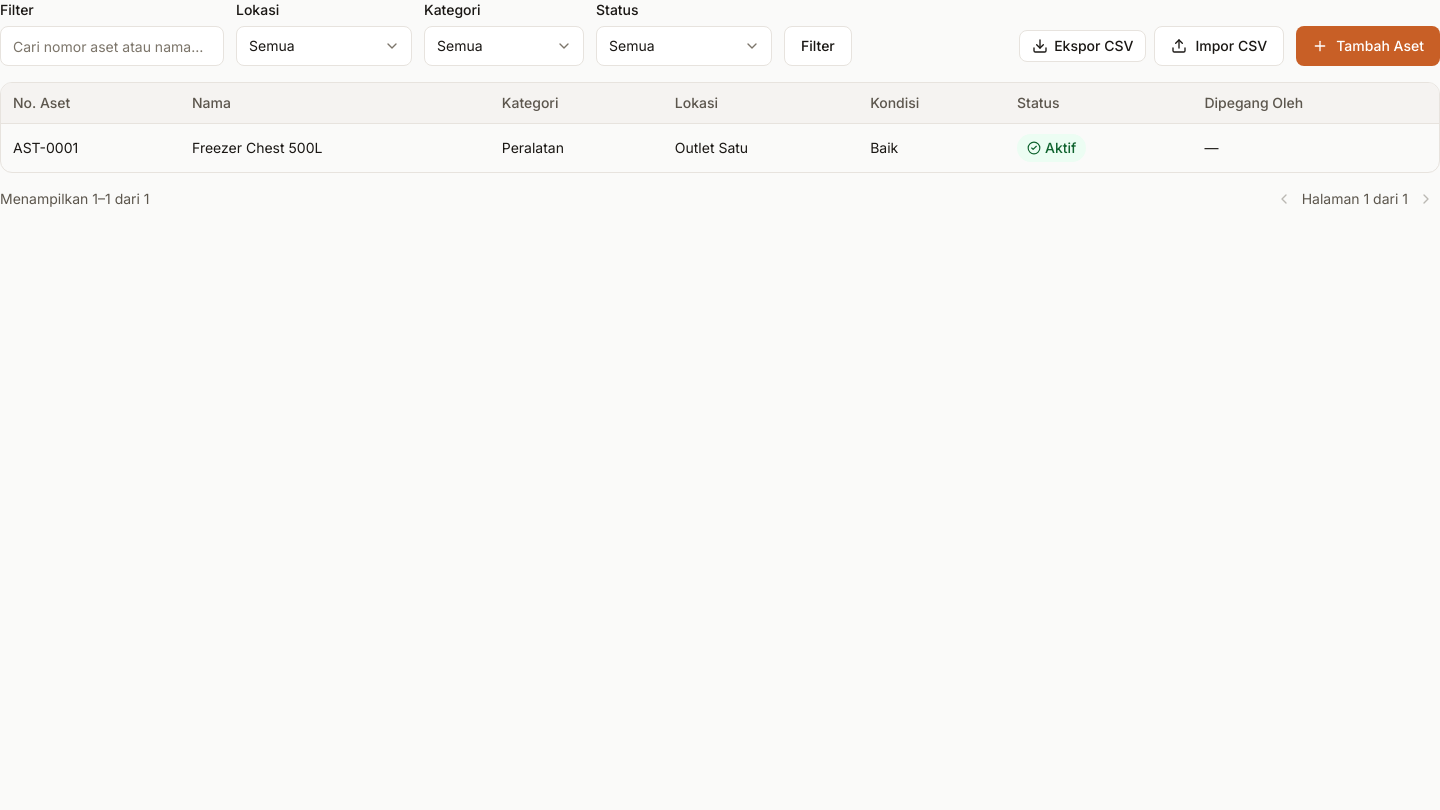
Test: AssetRegisterPanel — the maintenance jobs on an asset › asks the server for this asset’s jobs and shows them
Click the text "Freezer Chest 500L".
click(257, 148)  # box [180,124,490,172]
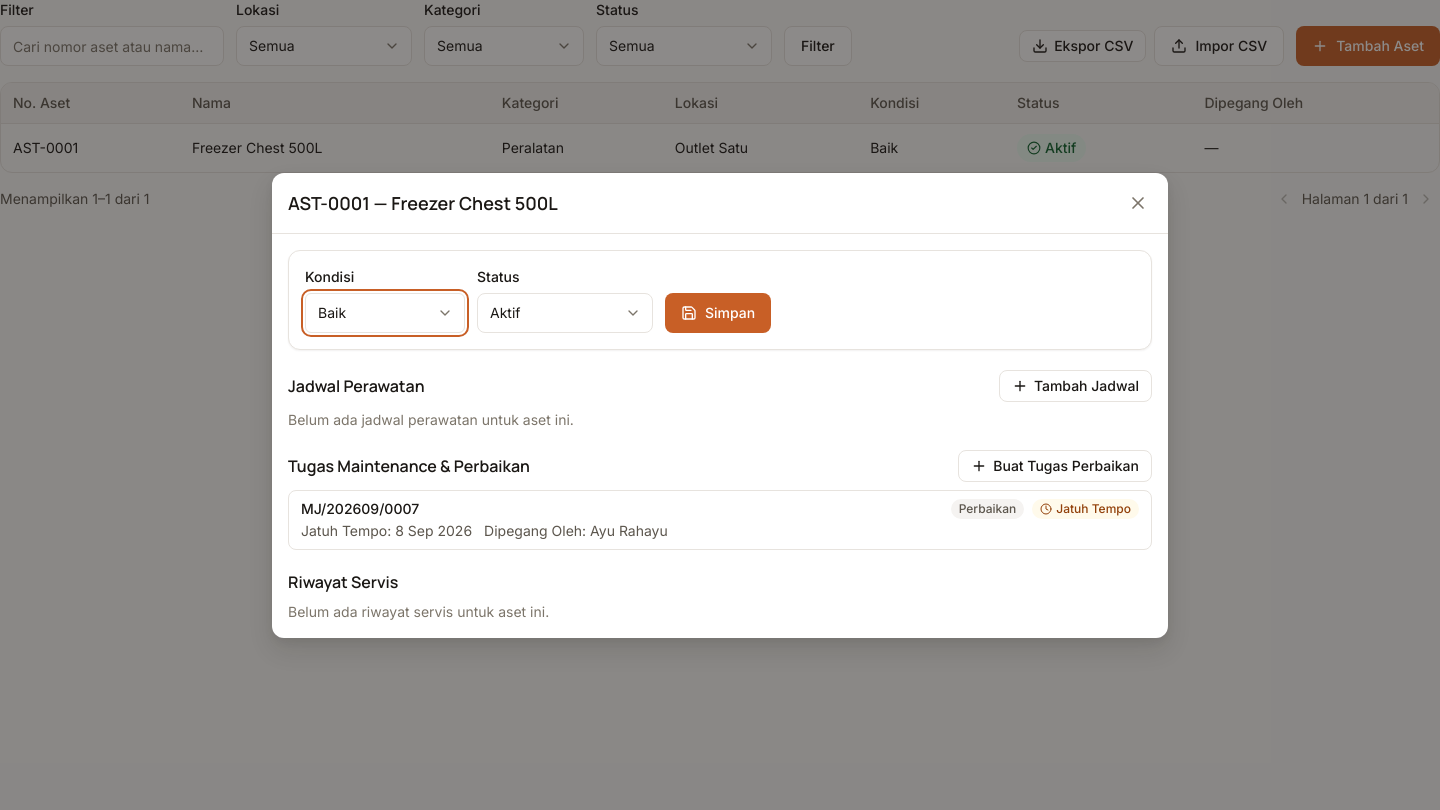
expect the text "MJ/202609/0007" is shown: met, box [301,498,419,518]
expect the text "Dipegang Oleh: Ayu Rahayu" is shown: met, box [484,520,668,540]
